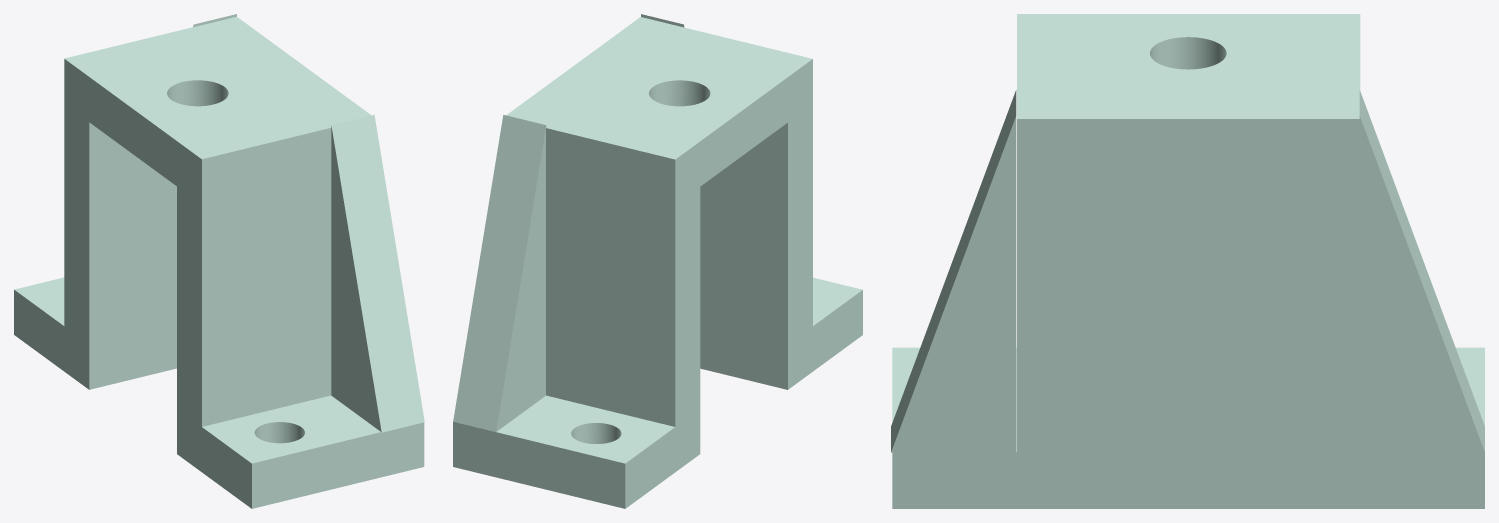
File: expected.gltf
3 renders of one model, left to right at view 1: azimuth 30°, elevation 25°; view 2: azimuth 150°, elevation 25°; view 3: azimuth 270°, elevation 25°, orthographic. The views are drawn at different scales.
Visible parts, largest first — view 1: Renderer Node; view 2: Renderer Node; view 3: Renderer Node.
Part boxes in pixels (x1,y1,x2,y2): Renderer Node: (14, 14, 424, 508); Renderer Node: (453, 14, 862, 508); Renderer Node: (891, 14, 1484, 508).
Bounding box in the file's own units: 0.5625 × 0.9844 × 1.35.
